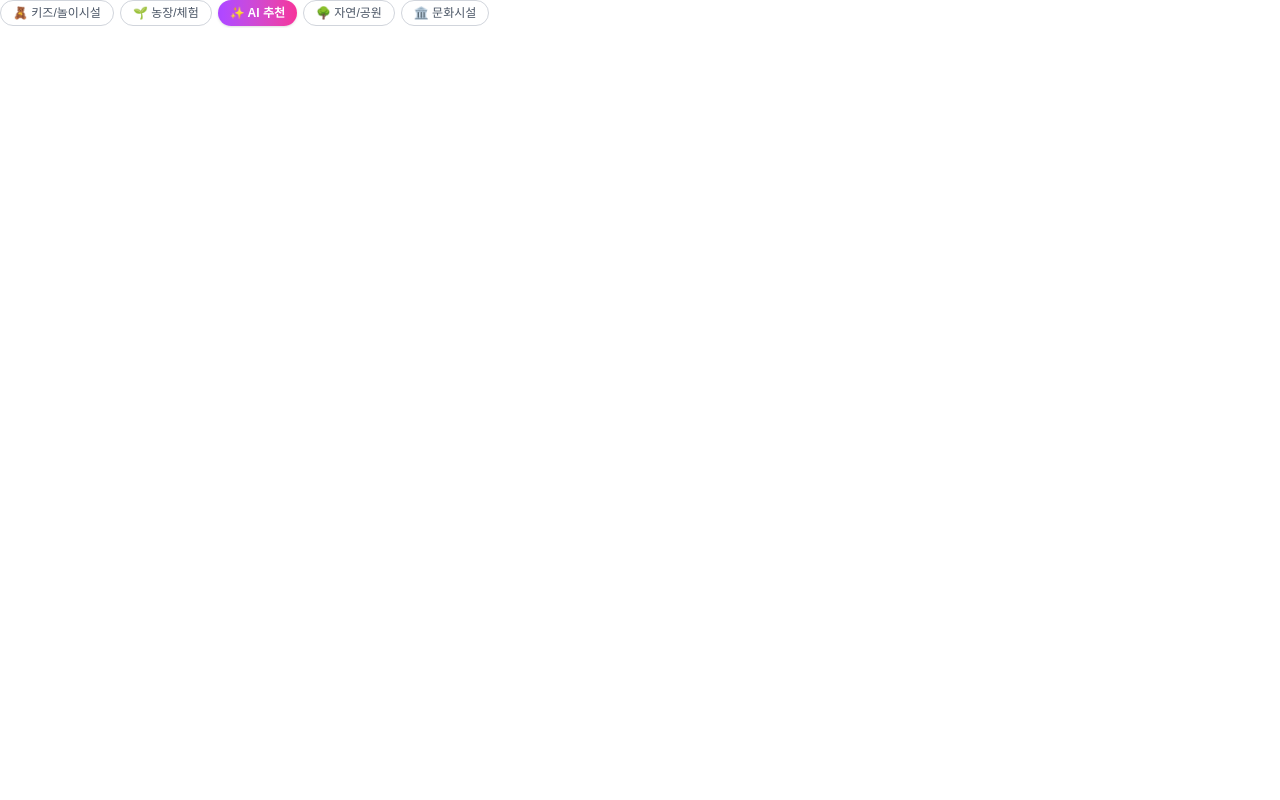
it: SpotCategoryFilter › 시트가 열린 채로 내부 대분류 탭을 눌러 다른 대분류로 즉시 전환할 수 있다(시트를 닫지 않음)
Click the button "🌱 농장/체험": (166,13) [120,0,212,26]
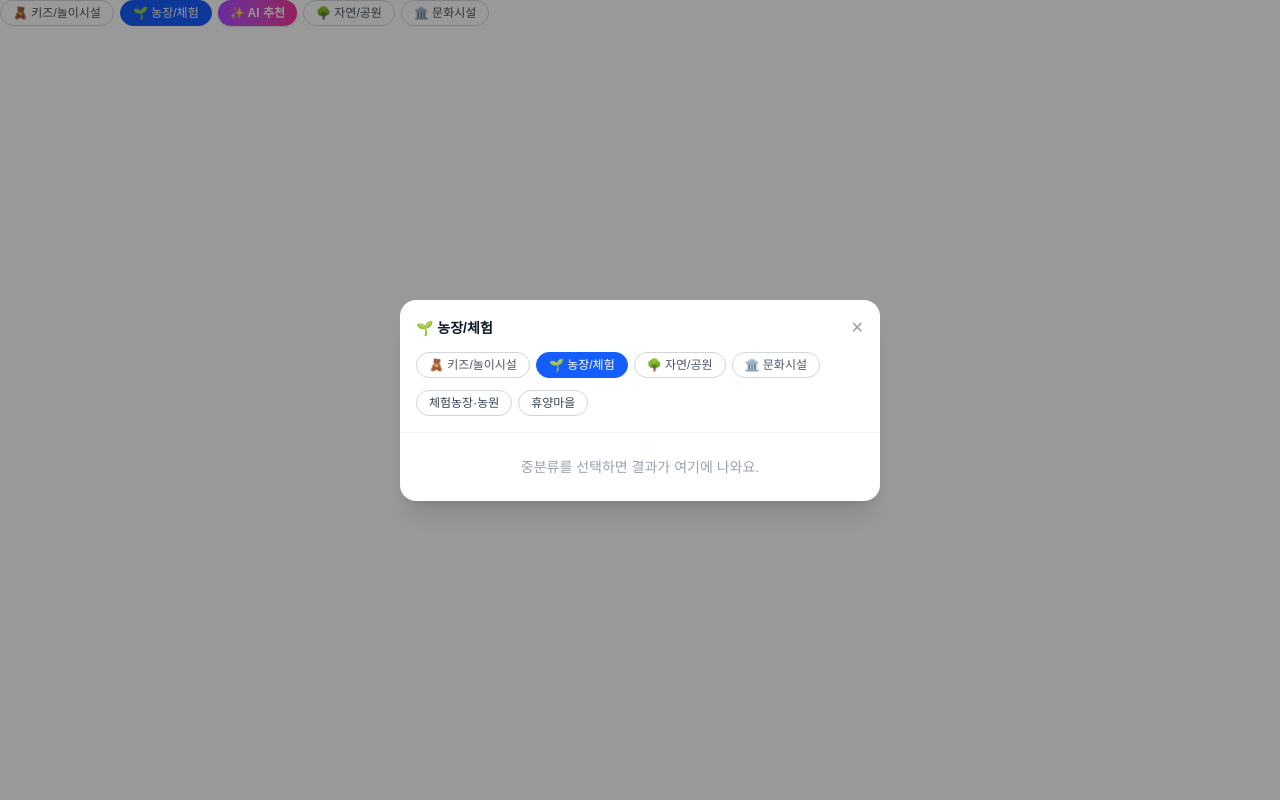
Check: the button "휴양마을" is shown, box [518,390,588,416]
Click the button "🏛️ 문화시설": (776,364) [732,352,820,378]
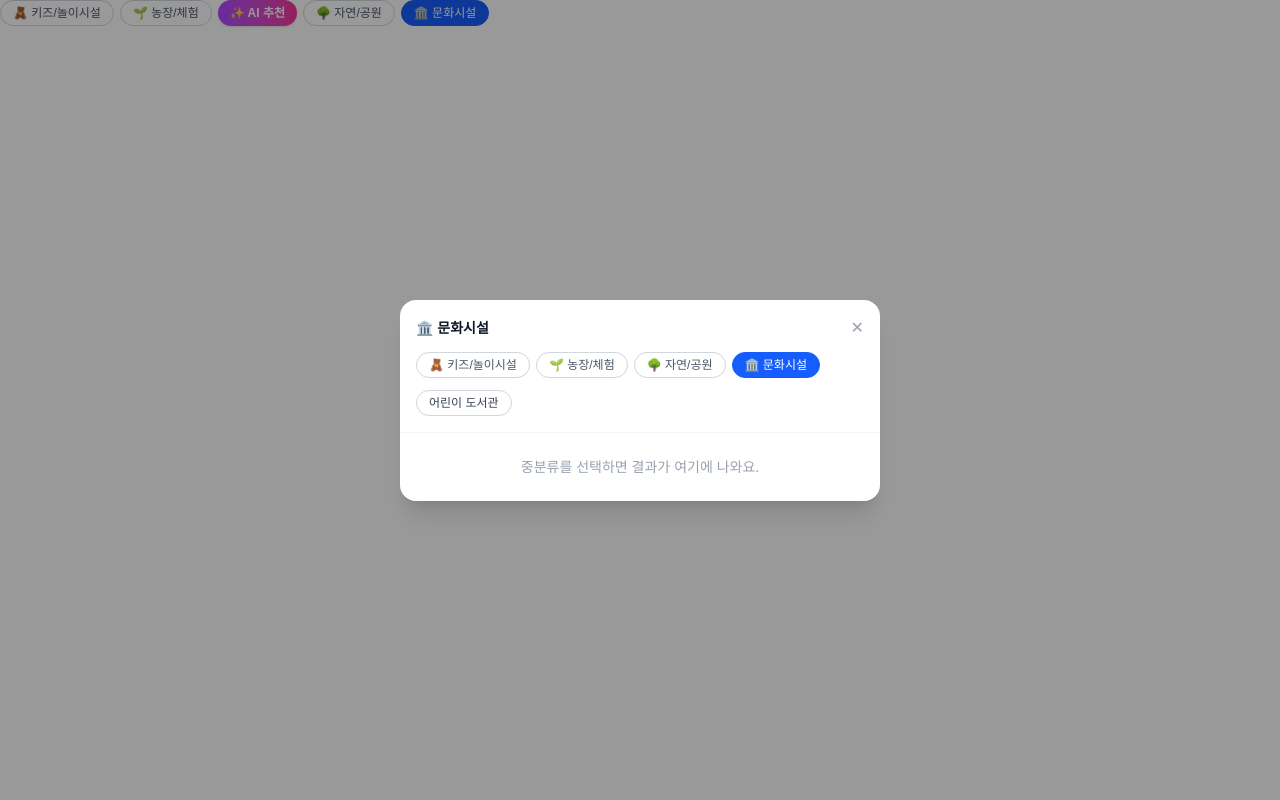
Check: the element with test id "spot-category-sheet" is shown
Check: the button "어린이 도서관" is shown, box [416,390,512,416]
Check: the button "휴양마을" is gone
